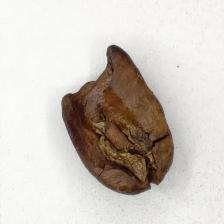NG: (62, 44, 129, 108), (92, 118, 156, 178)
